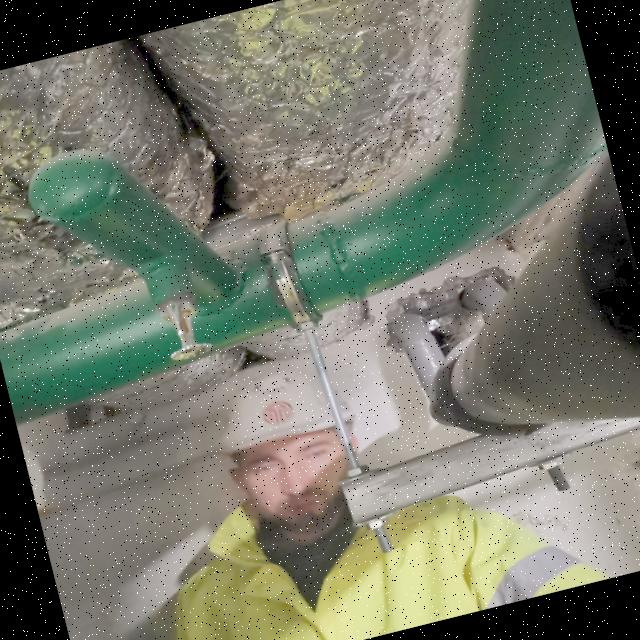Helmet: (205, 354, 370, 512)
Jacket: (157, 497, 485, 640)
